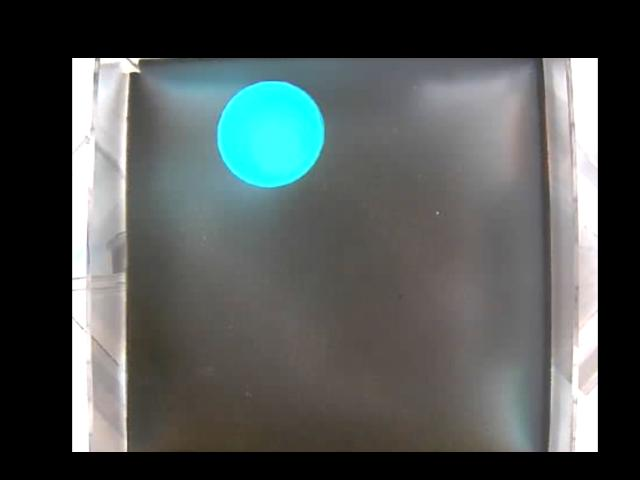Cup: (216, 80, 325, 191)
